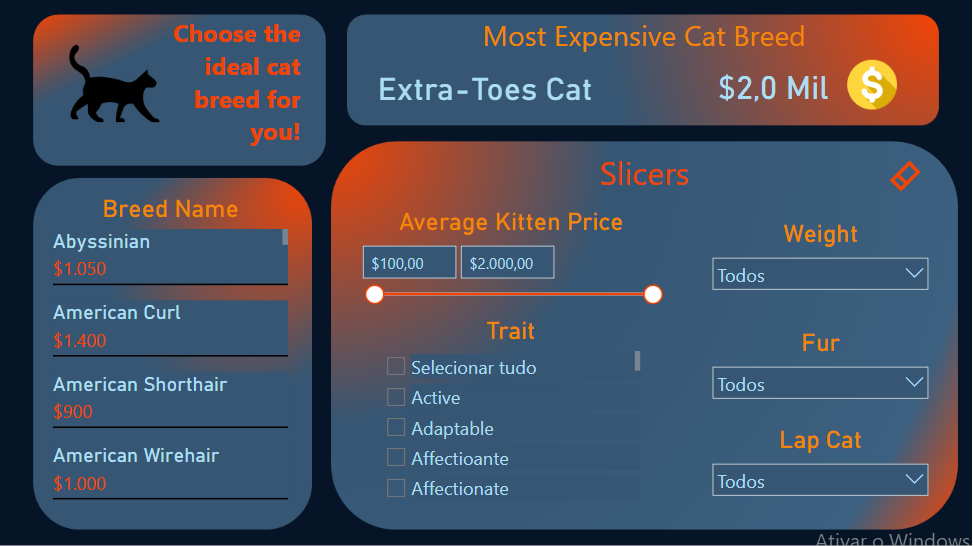

The page's visual inventory and layout, read from the dashboard file:
{"tool":"powerbi","page":{"name":"Page 1","canvas":[1280,720],"ordinal":0},"visuals":[{"type":"slicer","title":"Weight","fields":{"Values":["cat_breed_characteristics.MaleWtKg"]},"box":[928,288,304,112],"z":0},{"type":"slicer","title":"Trait","fields":{"Values":["cat_traits.Value"]},"box":[496,416,352,256],"z":1000},{"type":"slicer","title":"Average Kitten Price","fields":{"Values":["cat_breed_characteristics.AvgKittenPrice"]},"box":[464,272,416,144],"z":2000},{"type":"multiRowCard","title":"Breed Name","fields":{"Values":["cat_breed_characteristics.BreedName","cat_breed_characteristics.AvgKittenPrice"]},"box":[64,256,320,416],"z":3000},{"type":"textbox","box":[176,16,224,192],"z":4000},{"type":"cardVisual","fields":{"Data":["Min(cat_traits.BreedName)"]},"box":[64,16,176,192],"z":5000},{"type":"slicer","title":"Fur","fields":{"Values":["cat_breed_characteristics.Fur"]},"box":[928,432,304,96],"z":6000},{"type":"slicer","title":"Lap Cat","fields":{"Values":["cat_breed_characteristics.LapCat"]},"box":[928,560,304,96],"z":7000},{"type":"textbox","box":[528,192,640,80],"z":8000},{"type":"cardVisual","fields":{"Data":["Max(cat_breed_characteristics.AvgKittenPrice)"]},"box":[928,48,272,128],"z":9000},{"type":"textbox","box":[528,16,640,64],"z":10000},{"type":"cardVisual","fields":{"Data":["cat_breed_characteristics.HighestPricedBreed"]},"box":[480,48,448,128],"z":11000},{"type":"actionButton","box":[1168,208,48,48],"z":12000}]}

Visuals, with their boxes in screenshot pixels (x1, y1, x2, y2), scaled from the page's 1280x720 canvas onto the 973x546 screenshot:
"Weight" slicer: [x1=705, y1=218, x2=937, y2=303]
"Trait" slicer: [x1=377, y1=315, x2=645, y2=510]
"Average Kitten Price" slicer: [x1=353, y1=206, x2=669, y2=315]
"Breed Name" multiRowCard: [x1=49, y1=194, x2=292, y2=510]
textbox: [x1=134, y1=12, x2=304, y2=158]
cardVisual - Min(cat_traits.BreedName): [x1=49, y1=12, x2=182, y2=158]
"Fur" slicer: [x1=705, y1=328, x2=937, y2=400]
"Lap Cat" slicer: [x1=705, y1=425, x2=937, y2=497]
textbox: [x1=401, y1=146, x2=888, y2=206]
cardVisual - Max(cat_breed_characteristics.AvgKittenPrice): [x1=705, y1=36, x2=912, y2=133]
textbox: [x1=401, y1=12, x2=888, y2=61]
cardVisual - cat_breed_characteristics.HighestPricedBreed: [x1=365, y1=36, x2=705, y2=133]
actionButton: [x1=888, y1=158, x2=924, y2=194]
